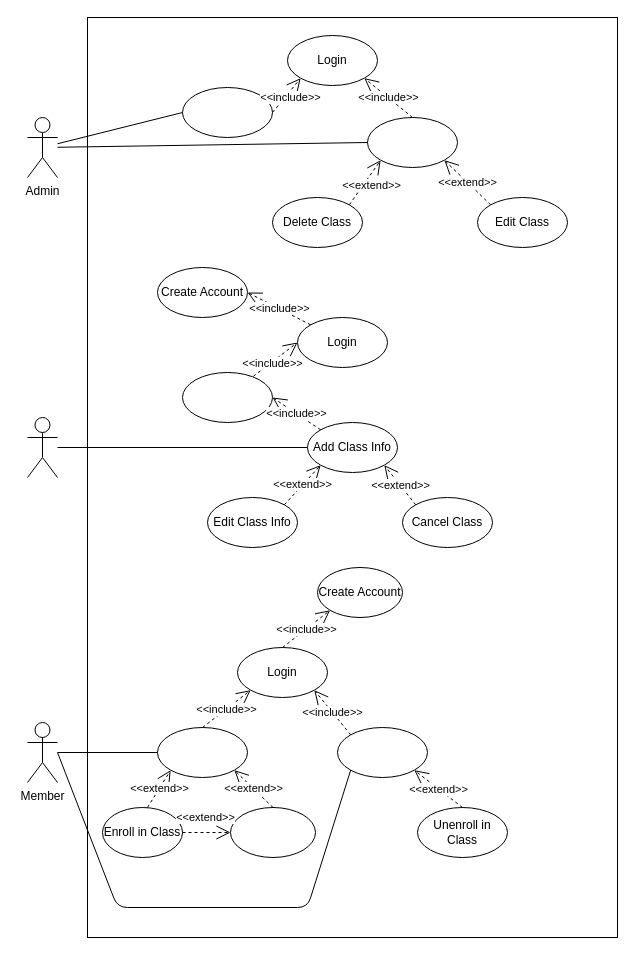
Some shapes in this 635 by 955 pixel diagram are drawn without their labels. Each missing label, with the box of its shape:
Choose Class: (182, 372, 272, 422)
Create Class: (366, 116, 458, 168)
Delete Account: (182, 86, 272, 138)
Instructor: (26, 416, 58, 478)
Search for Class: (230, 806, 316, 858)
View All Classes: (156, 726, 248, 778)
View Enrolled Classes: (336, 726, 428, 778)
